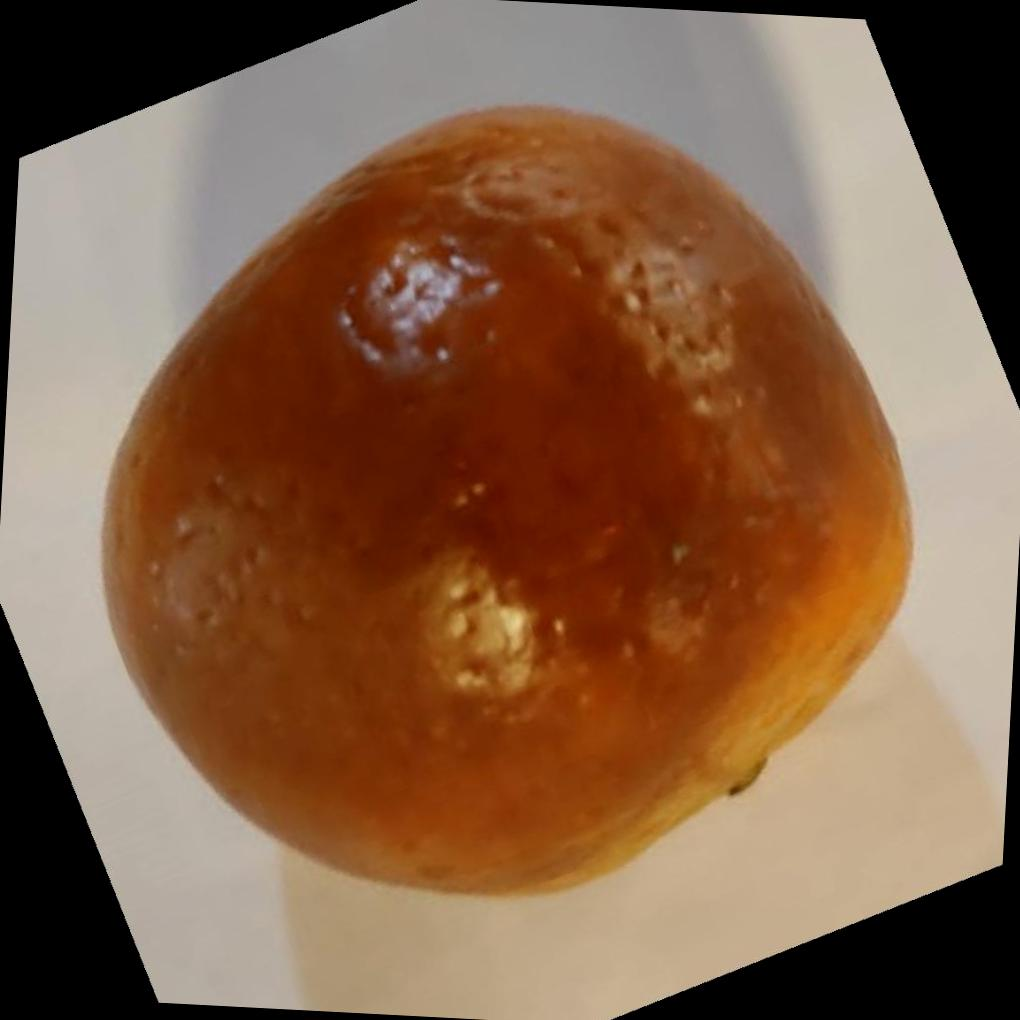FreshOrange: (98, 97, 915, 897)
